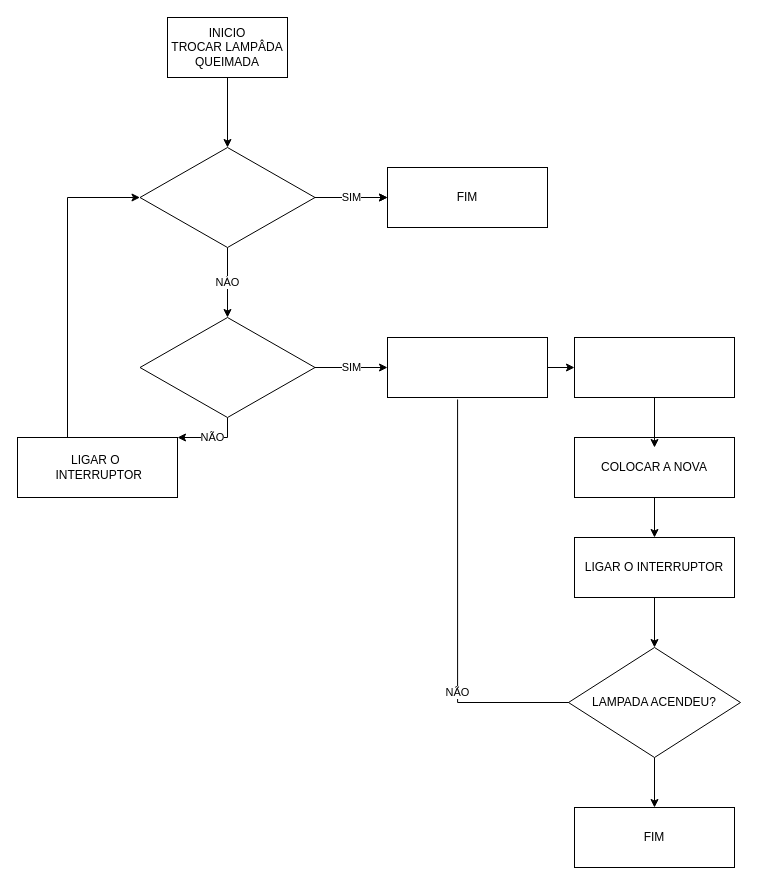
The diagram is 766 pixels wide and 885 high, and some of its shapes have lost their labels. Each missing label, with the centre of its shape:
"DESLIGAR O INTERRUPTOR" belongs at pixel 467 367.
"INTERRUPTOR LIGADO?" belongs at pixel 227 367.
"LAMPÂNDA ACESSA" belongs at pixel 227 197.
"TIRAR LAMPADA VELHA" belongs at pixel 654 367.
